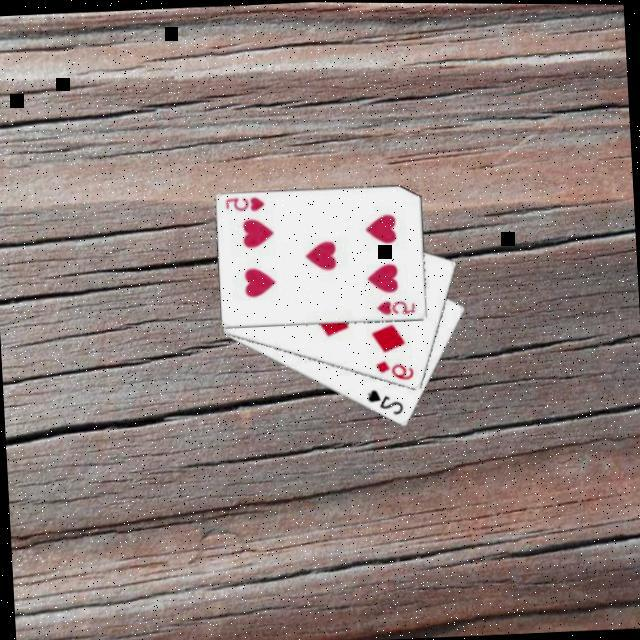2S: (366, 384, 408, 418)
5H: (224, 192, 269, 214), (375, 296, 420, 316)
6D: (375, 355, 418, 383)
